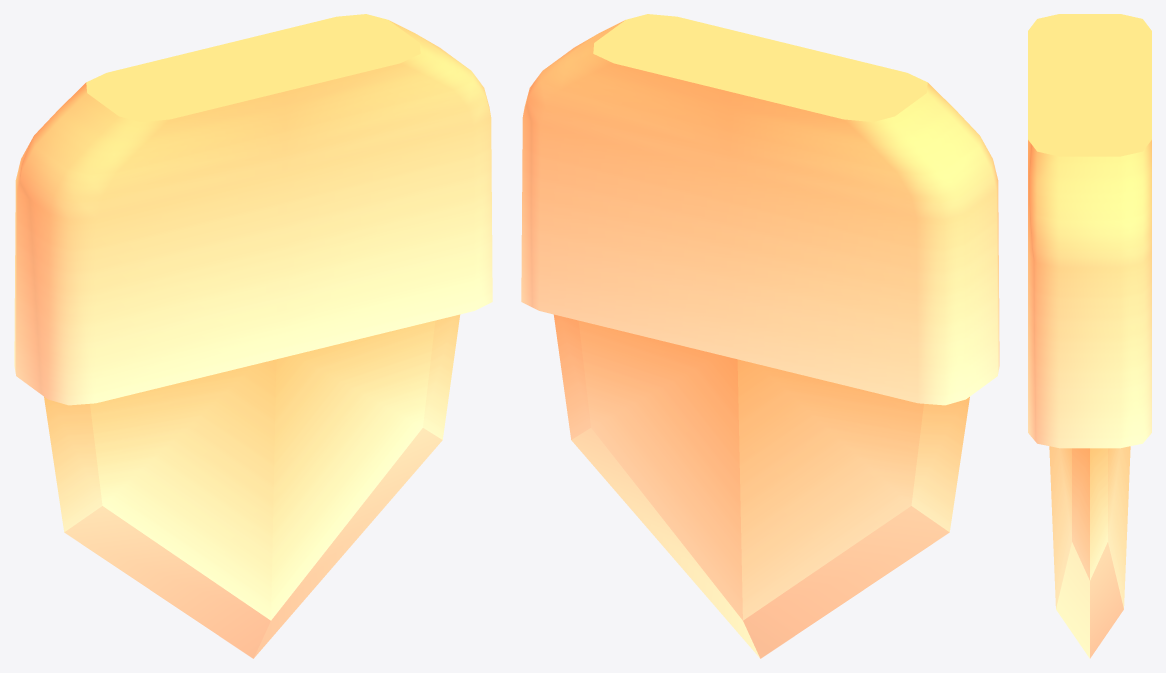
Rendered from wood_pommel_145_004.glb.
3 renders of one model, left to right at view 1: azimuth 30°, elevation 25°; view 2: azimuth 150°, elevation 25°; view 3: azimuth 270°, elevation 25°, orthographic. The views are drawn at different scales.
Visible parts, largest first — view 1: wood_pommel_145.004; view 2: wood_pommel_145.004; view 3: wood_pommel_145.004.
Part boxes in pixels (<box>): wood_pommel_145.004: <box>14,14,492,658</box>; wood_pommel_145.004: <box>521,14,999,658</box>; wood_pommel_145.004: <box>1028,14,1151,658</box>.
Bounding box in the file's own units: 1.66 × 2.12 × 0.4148.
Materials: 1 (1 with a texture image).
